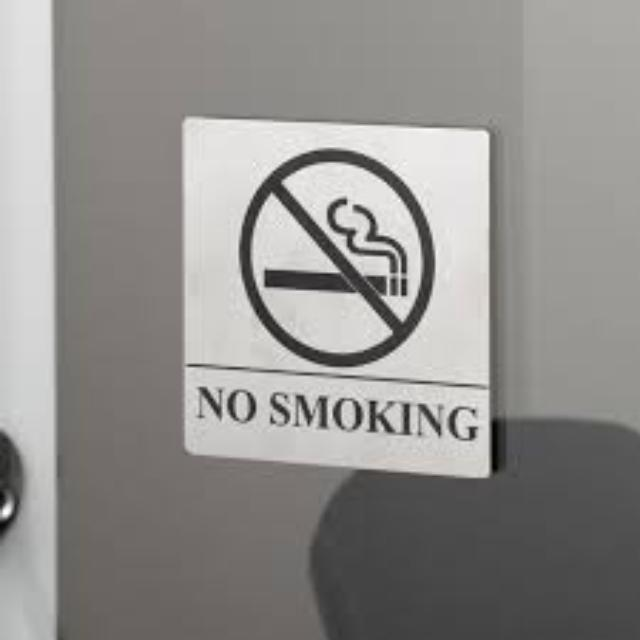cam hut thuoc: (185, 119, 486, 475)
